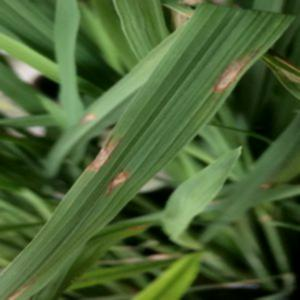1 RiceBlast: (195, 39, 270, 105), (68, 120, 125, 177), (92, 164, 146, 203)
